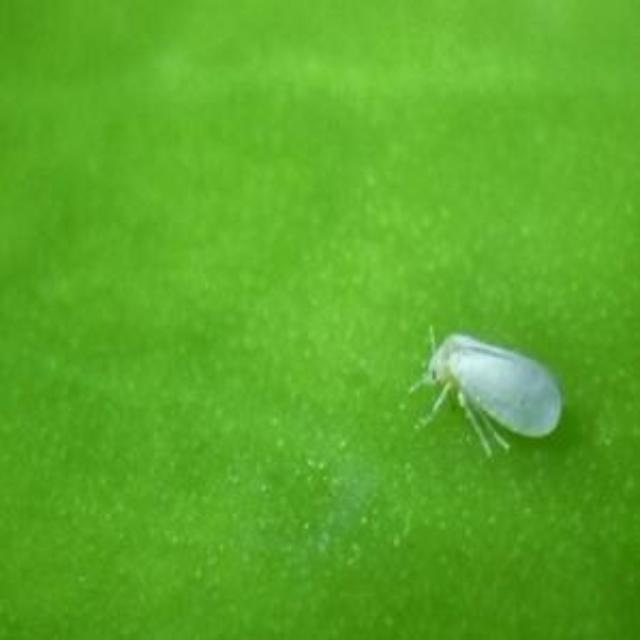Silverleaf whitefly: (398, 306, 572, 482)
